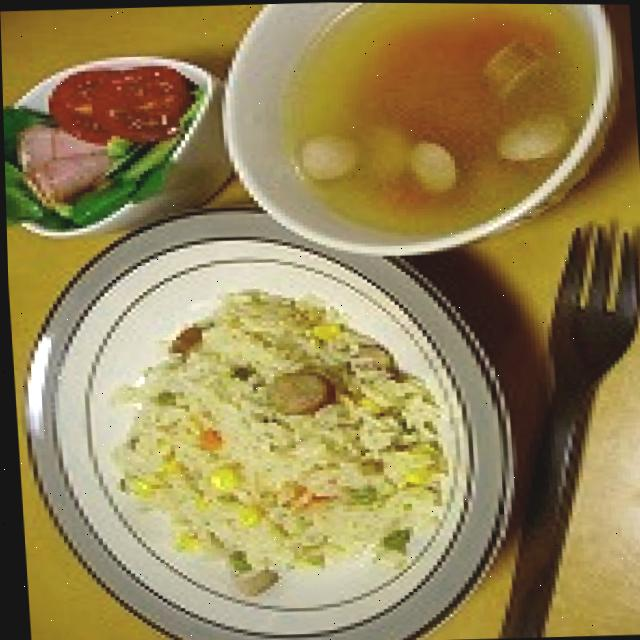米饭主食: (6, 263, 480, 640)
